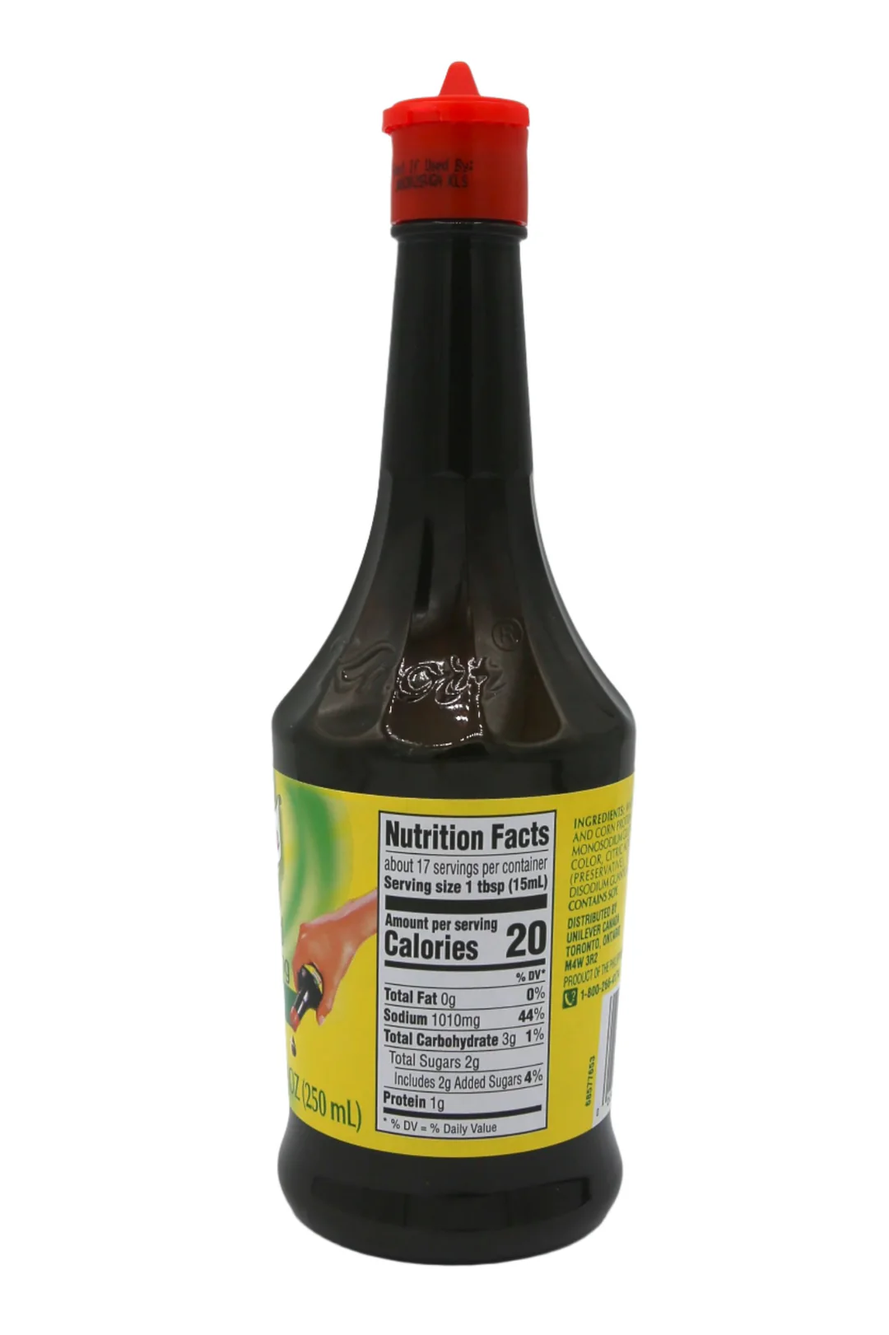non-toxic_waste: (299, 136, 598, 1240)
